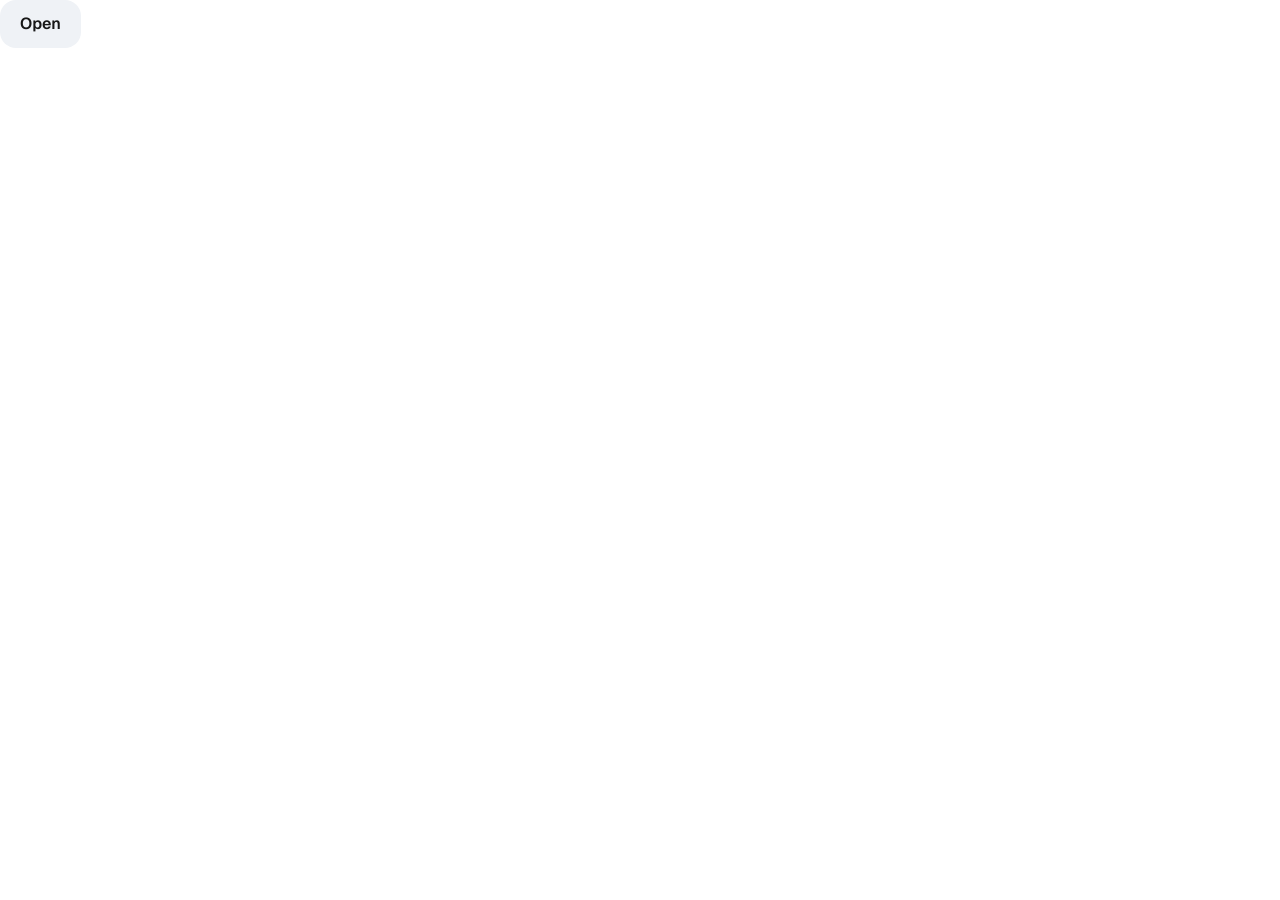
Test case: Dropdown (rule M4: a list of options is a sheet on a phone) › on a phone it is a bottom sheet (a dialog) with the same options, and a single choice closes it
Click the button "Open": (40,24) x1=0 y1=0 x2=81 y2=48
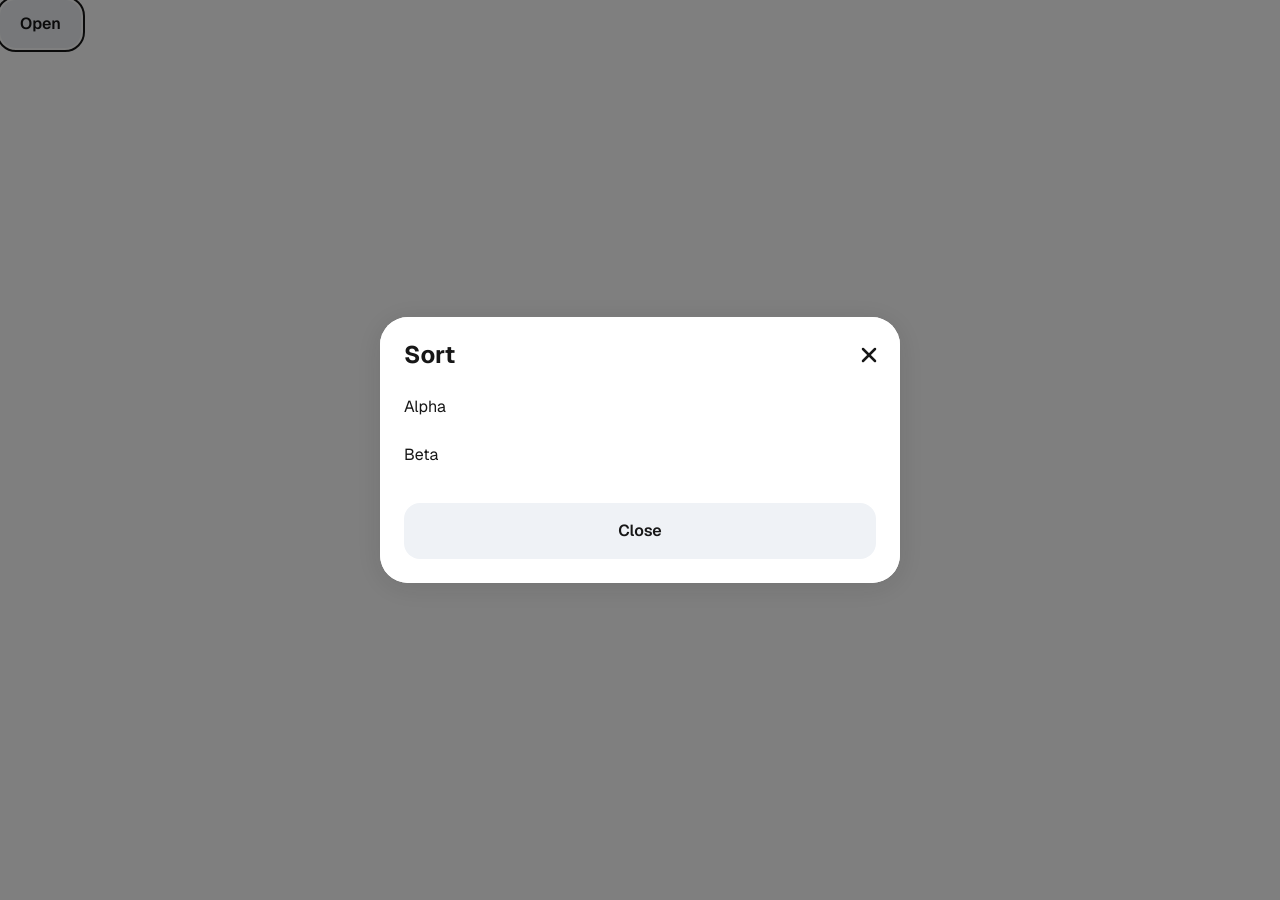
Now the dialog is shown, box x1=380 y1=317 x2=900 y2=583
Click the option "Beta": (421,454) x1=396 y1=431 x2=884 y2=479
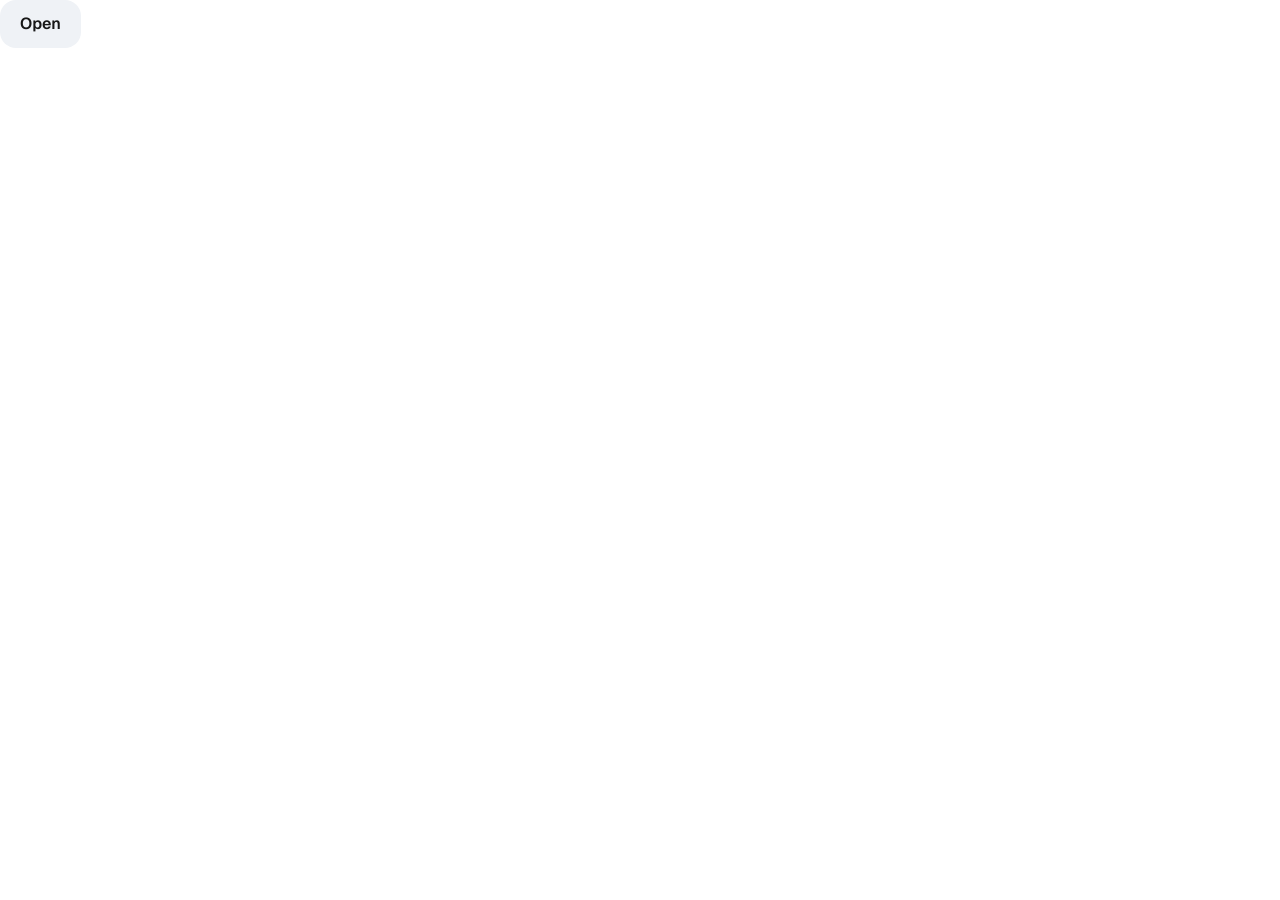
Now the dialog is gone
